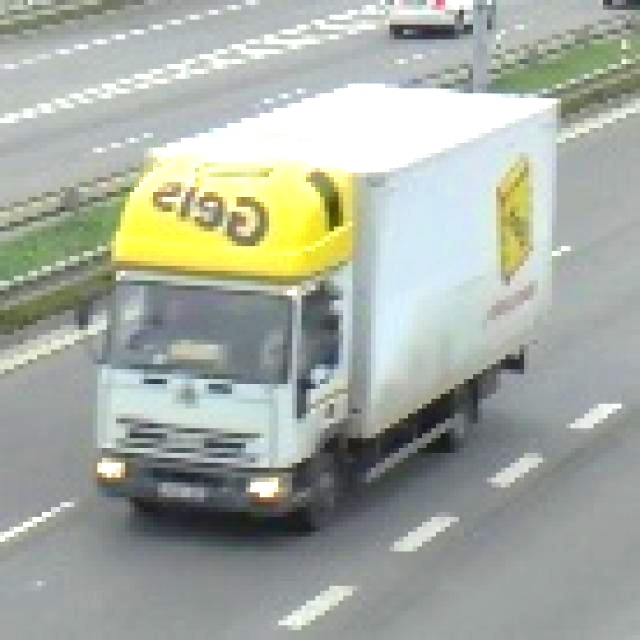truck: (75, 54, 593, 526)
